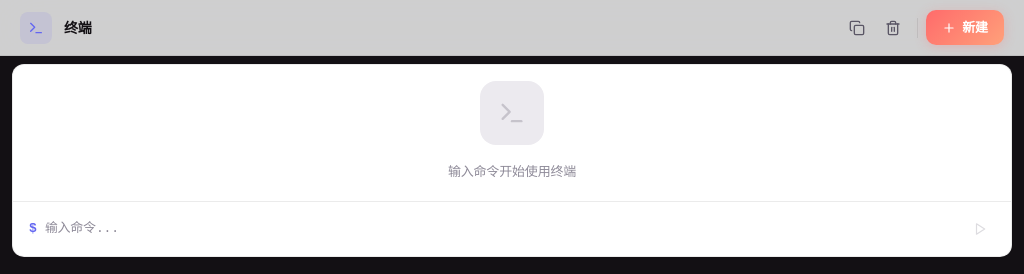
Test: TerminalPage › falls back to an error line in history when execute_shell throws
This screenshot has width=1024, height=274.
Type "badcmd" into the field with placeholder "输入命令...".
click(501, 229); type("badcmd")  # box [45,219,957,239]
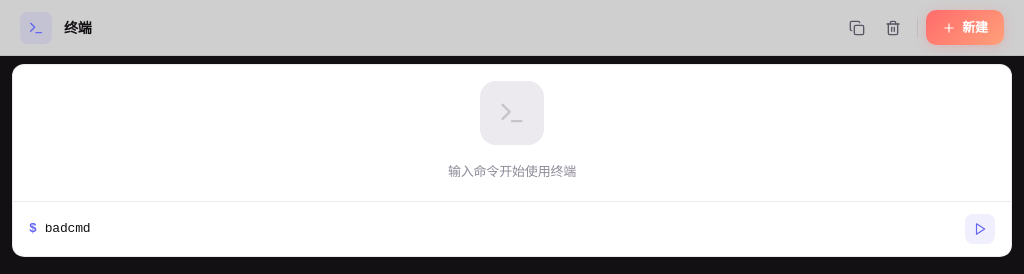
Click the button titled "执行".
click(980, 229)  # box [965,214,995,244]
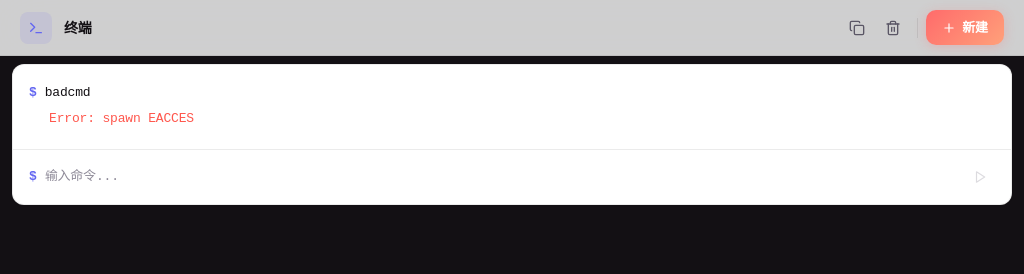
Expected: the text "Error: spawn EACCES" is shown, [29,111,194,126]
